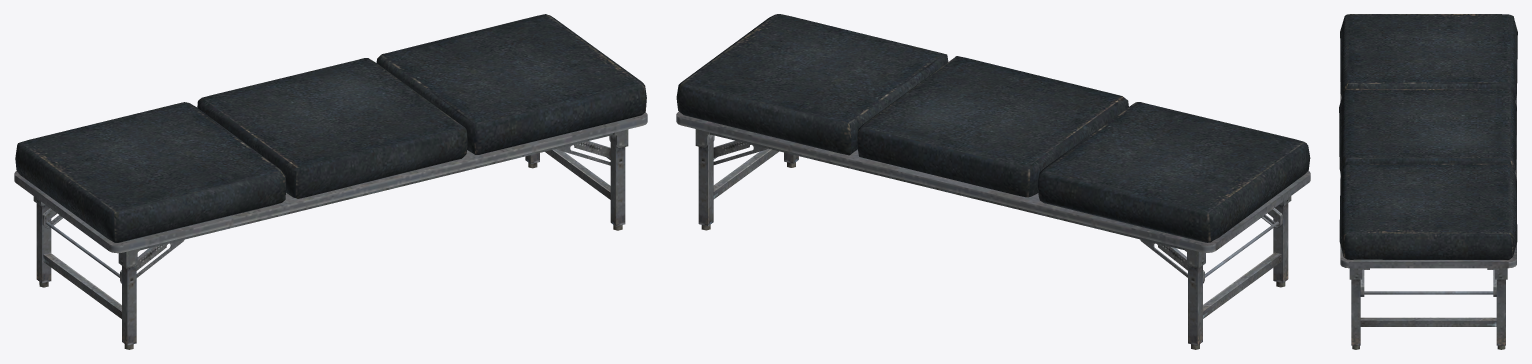
The model's file is 127_Bench.fbx.
The picture shows the model from 3 angles, left to right: view 1: azimuth 30°, elevation 25°; view 2: azimuth 150°, elevation 25°; view 3: azimuth 270°, elevation 25°; orthographic projection. The views are drawn at different scales.
Visible parts, largest first — view 1: LOD_1_Group_0_Sub_1__sm30_126_BenchA01A_A_Mat; view 2: LOD_1_Group_0_Sub_1__sm30_126_BenchA01A_A_Mat; view 3: LOD_1_Group_0_Sub_1__sm30_126_BenchA01A_A_Mat.
Part boxes in pixels (x1=…): LOD_1_Group_0_Sub_1__sm30_126_BenchA01A_A_Mat: x1=14, y1=14, x2=647, y2=349; LOD_1_Group_0_Sub_1__sm30_126_BenchA01A_A_Mat: x1=676, y1=14, x2=1310, y2=349; LOD_1_Group_0_Sub_1__sm30_126_BenchA01A_A_Mat: x1=1339, y1=14, x2=1517, y2=349.
Bounding box in the file's own units: 1.58 × 0.4046 × 0.5318.
